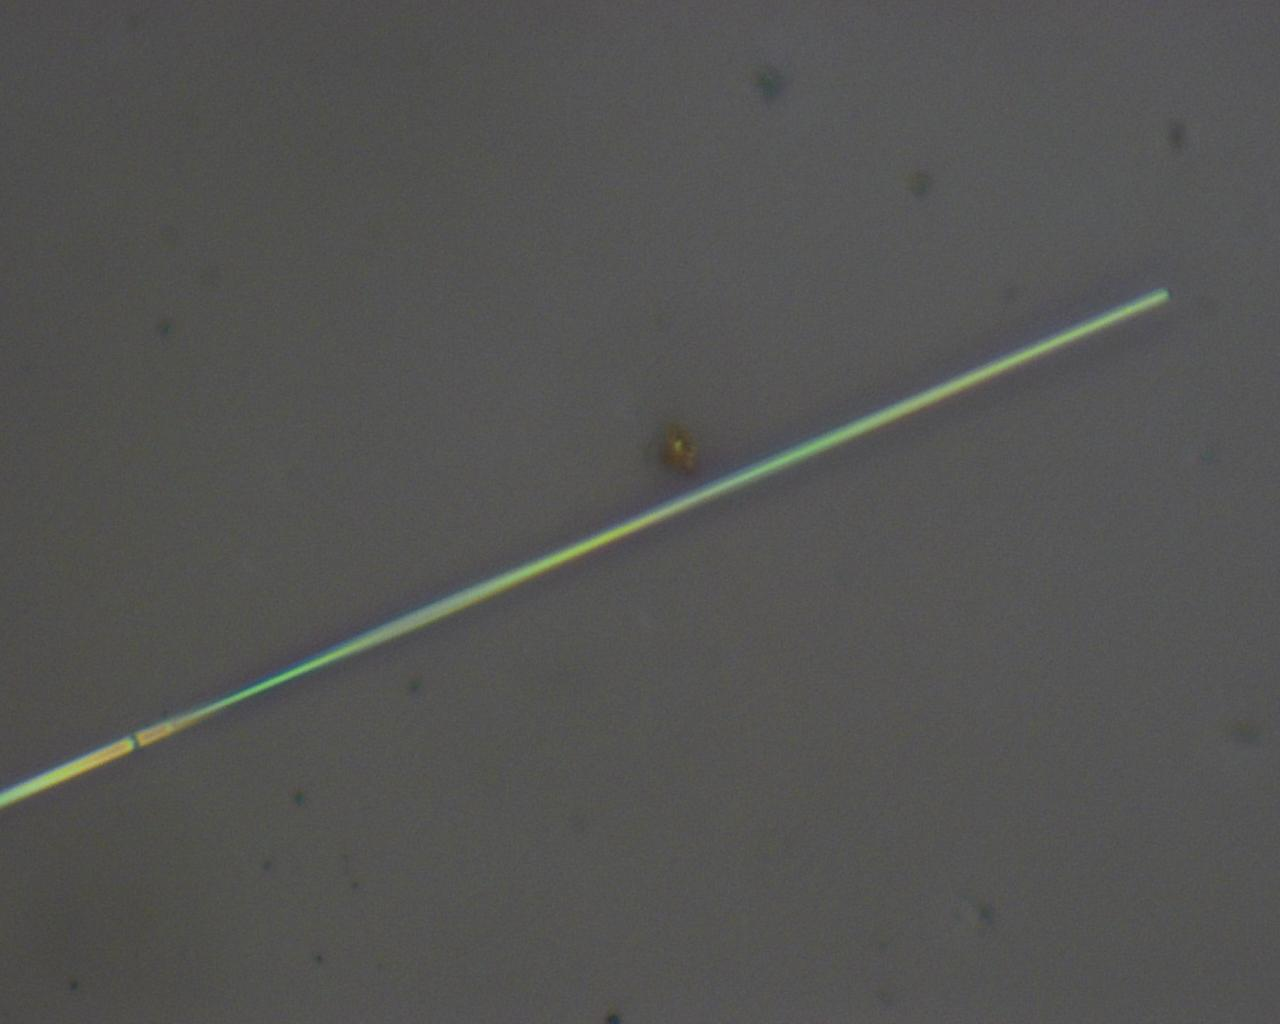fiber: (678, 683, 1280, 944), (0, 481, 678, 638), (125, 10, 678, 149), (678, 171, 1280, 244)
